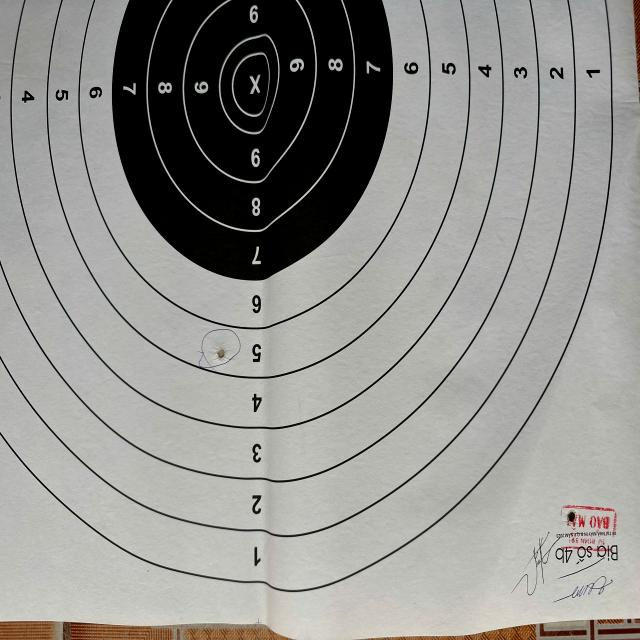bullet: (216, 352, 228, 360), (568, 512, 576, 523)
target: (16, 0, 640, 636)
